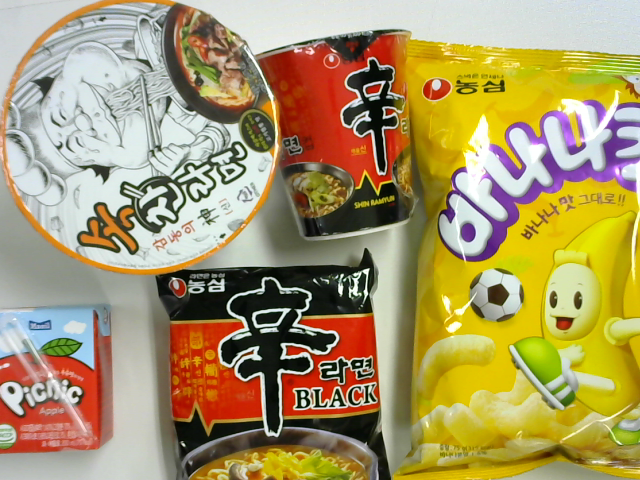Banana_Kick: (401, 38, 640, 476)
Hejangchan: (3, 2, 273, 268)
Picnic_Apple: (1, 304, 119, 452)
Sinramen_Black: (147, 264, 390, 480)
Sinramen_small: (253, 26, 411, 244)
